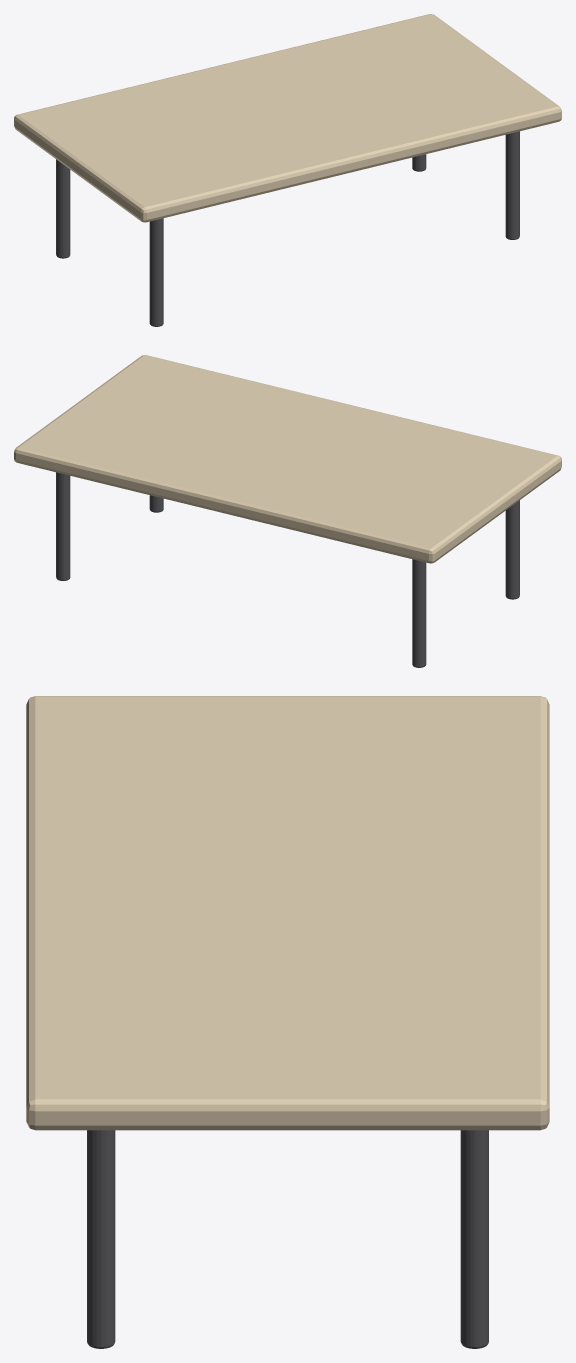
Rendered from coffee_table.glb.
3 renders of one model, top to bottom at view 1: azimuth 30°, elevation 25°; view 2: azimuth 150°, elevation 25°; view 3: azimuth 270°, elevation 25°, orthographic. The views are drawn at different scales.
Visible parts, largest first — view 1: tampo, perna, perna.002, perna.001; view 2: tampo, perna.001, perna.003, perna; view 3: tampo, perna.002, perna.003.
Boxes of the visible parts, x1,y1,x2,y2 form: tampo: (14, 14, 561, 222); perna: (149, 218, 163, 326); perna.002: (505, 131, 519, 239); perna.001: (56, 159, 70, 258); tampo: (14, 355, 561, 563); perna.001: (412, 559, 426, 667); perna.003: (56, 472, 70, 580); perna: (505, 500, 519, 599); tampo: (26, 696, 549, 1130); perna.002: (87, 1130, 115, 1348); perna.003: (460, 1130, 488, 1348).
Size of the model in its own units: 1.3 by 0.4025 by 0.7.
